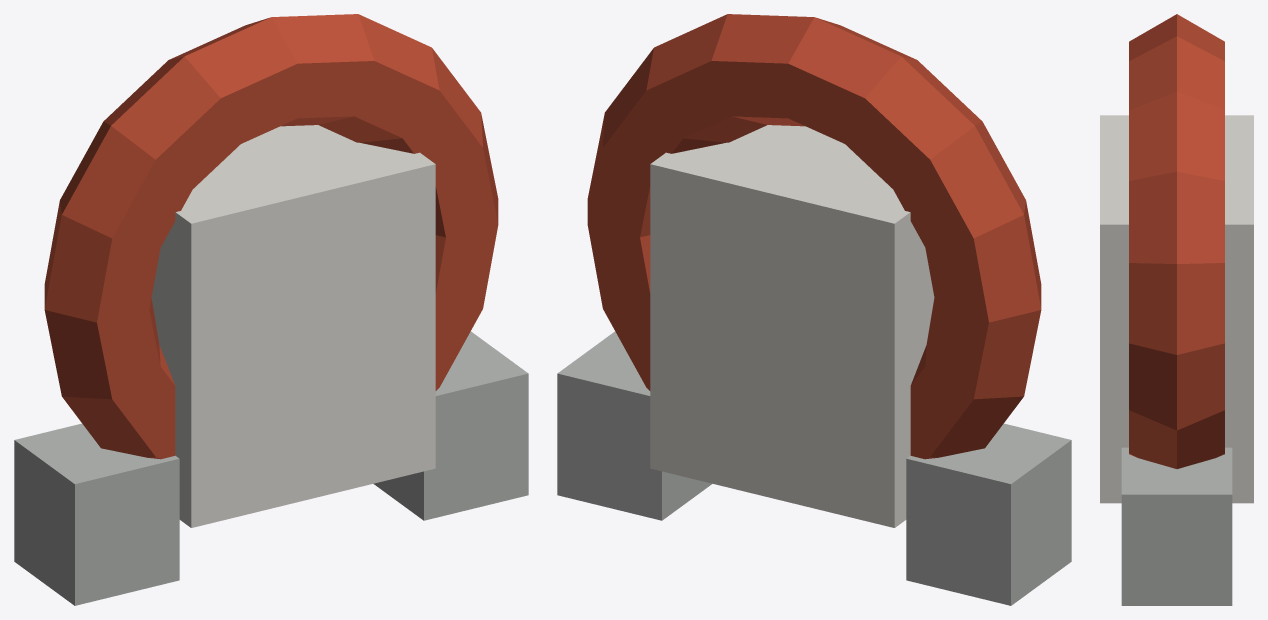
Rendered from lure-magnet.glb.
The picture shows the model from 3 angles, left to right: view 1: azimuth 30°, elevation 25°; view 2: azimuth 150°, elevation 25°; view 3: azimuth 270°, elevation 25°; orthographic projection. The views are drawn at different scales.
Parts seen in each view (by area): view 1: lure-magnet; view 2: lure-magnet; view 3: lure-magnet.
Boxes of the visible parts, x1,y1,x2,y2 form: lure-magnet: (14,14,528,605); lure-magnet: (557,14,1071,605); lure-magnet: (1100,14,1253,605).
Size of the model in its own units: 0.78 by 0.84 by 0.25.
